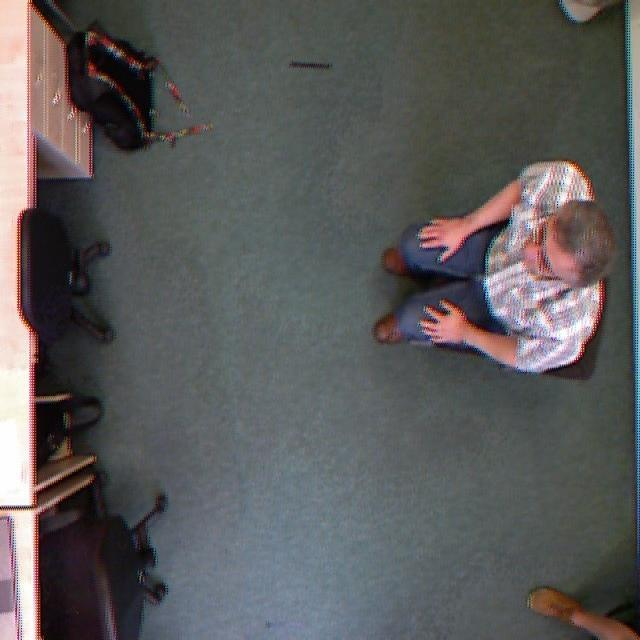sitting: (374, 152, 618, 398)
